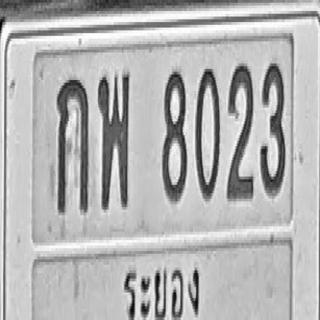A01: (56, 76, 89, 214)
A30: (97, 69, 130, 210)
N00: (195, 65, 220, 200)
N02: (227, 62, 254, 200)
N03: (260, 61, 286, 196)
N08: (162, 69, 186, 202)
P53: (122, 248, 202, 320)
